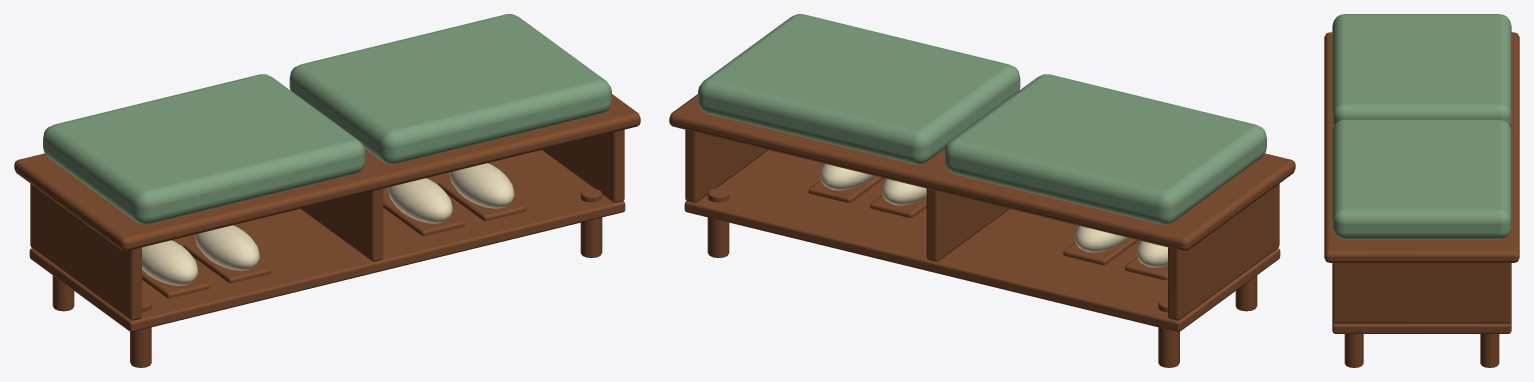
The model's file is shoe_bench.glb.
3 views of the same model, side by side, from view 1: azimuth 30°, elevation 25°; view 2: azimuth 150°, elevation 25°; view 3: azimuth 270°, elevation 25° (orthographic). The views are drawn at different scales.
Parts seen in each view (by area): view 1: Cube.005, Cube.006, Cube, Cube.004, Cube.001, Cube.002, Cube.003, Sphere.002, Sphere.003, Sphere.001, Sphere, Cylinder.003 (+6 smaller); view 2: Cube.005, Cube.006, Cube, Cube.004, Cube.001, Cube.002, Cube.003, Cylinder.002, Sphere.001, Sphere.003, Cylinder, Sphere.002 (+6 smaller); view 3: Cube.006, Cube.005, Cube.003, Cube.004, Cube, Cylinder.002, Cylinder.003.
Part boxes in pixels (left/top/right/bottom): Cube.005: left=43, top=74, right=365, bottom=224; Cube.006: left=289, top=14, right=611, bottom=164; Cube: left=29, top=150, right=625, bottom=331; Cube.004: left=14, top=94, right=640, bottom=250; Cube.001: left=30, top=183, right=141, bottom=320; Cube.002: left=300, top=188, right=383, bottom=261; Cube.003: left=542, top=129, right=624, bottom=202; Sphere.002: left=387, top=178, right=452, bottom=223; Sphere.003: left=449, top=163, right=514, bottom=208; Sphere.001: left=194, top=225, right=259, bottom=270; Sphere: left=142, top=240, right=198, bottom=285; Cylinder.003: left=580, top=188, right=602, bottom=257; Cube.005: left=944, top=74, right=1266, bottom=224; Cube.006: left=698, top=14, right=1020, bottom=164; Cube: left=684, top=150, right=1280, bottom=331; Cube.004: left=669, top=94, right=1295, bottom=250; Cube.001: left=1168, top=183, right=1279, bottom=320; Cube.002: left=926, top=188, right=1009, bottom=261; Cube.003: left=685, top=129, right=767, bottom=202; Cylinder.002: left=707, top=188, right=729, bottom=257; Sphere.001: left=1075, top=225, right=1128, bottom=252; Sphere.003: left=820, top=163, right=873, bottom=190; Cylinder: left=1158, top=298, right=1179, bottom=367; Sphere.002: left=882, top=178, right=926, bottom=205; Cube.006: left=1332, top=119, right=1511, bottom=239; Cube.005: left=1332, top=14, right=1511, bottom=126; Cube.003: left=1332, top=263, right=1511, bottom=323; Cube.004: left=1324, top=32, right=1519, bottom=262; Cube: left=1332, top=321, right=1511, bottom=333; Cylinder.002: left=1480, top=334, right=1499, bottom=367; Cylinder.003: left=1344, top=334, right=1363, bottom=367.
Bounding box in the file's own units: 1.94 × 0.635 × 0.72.
